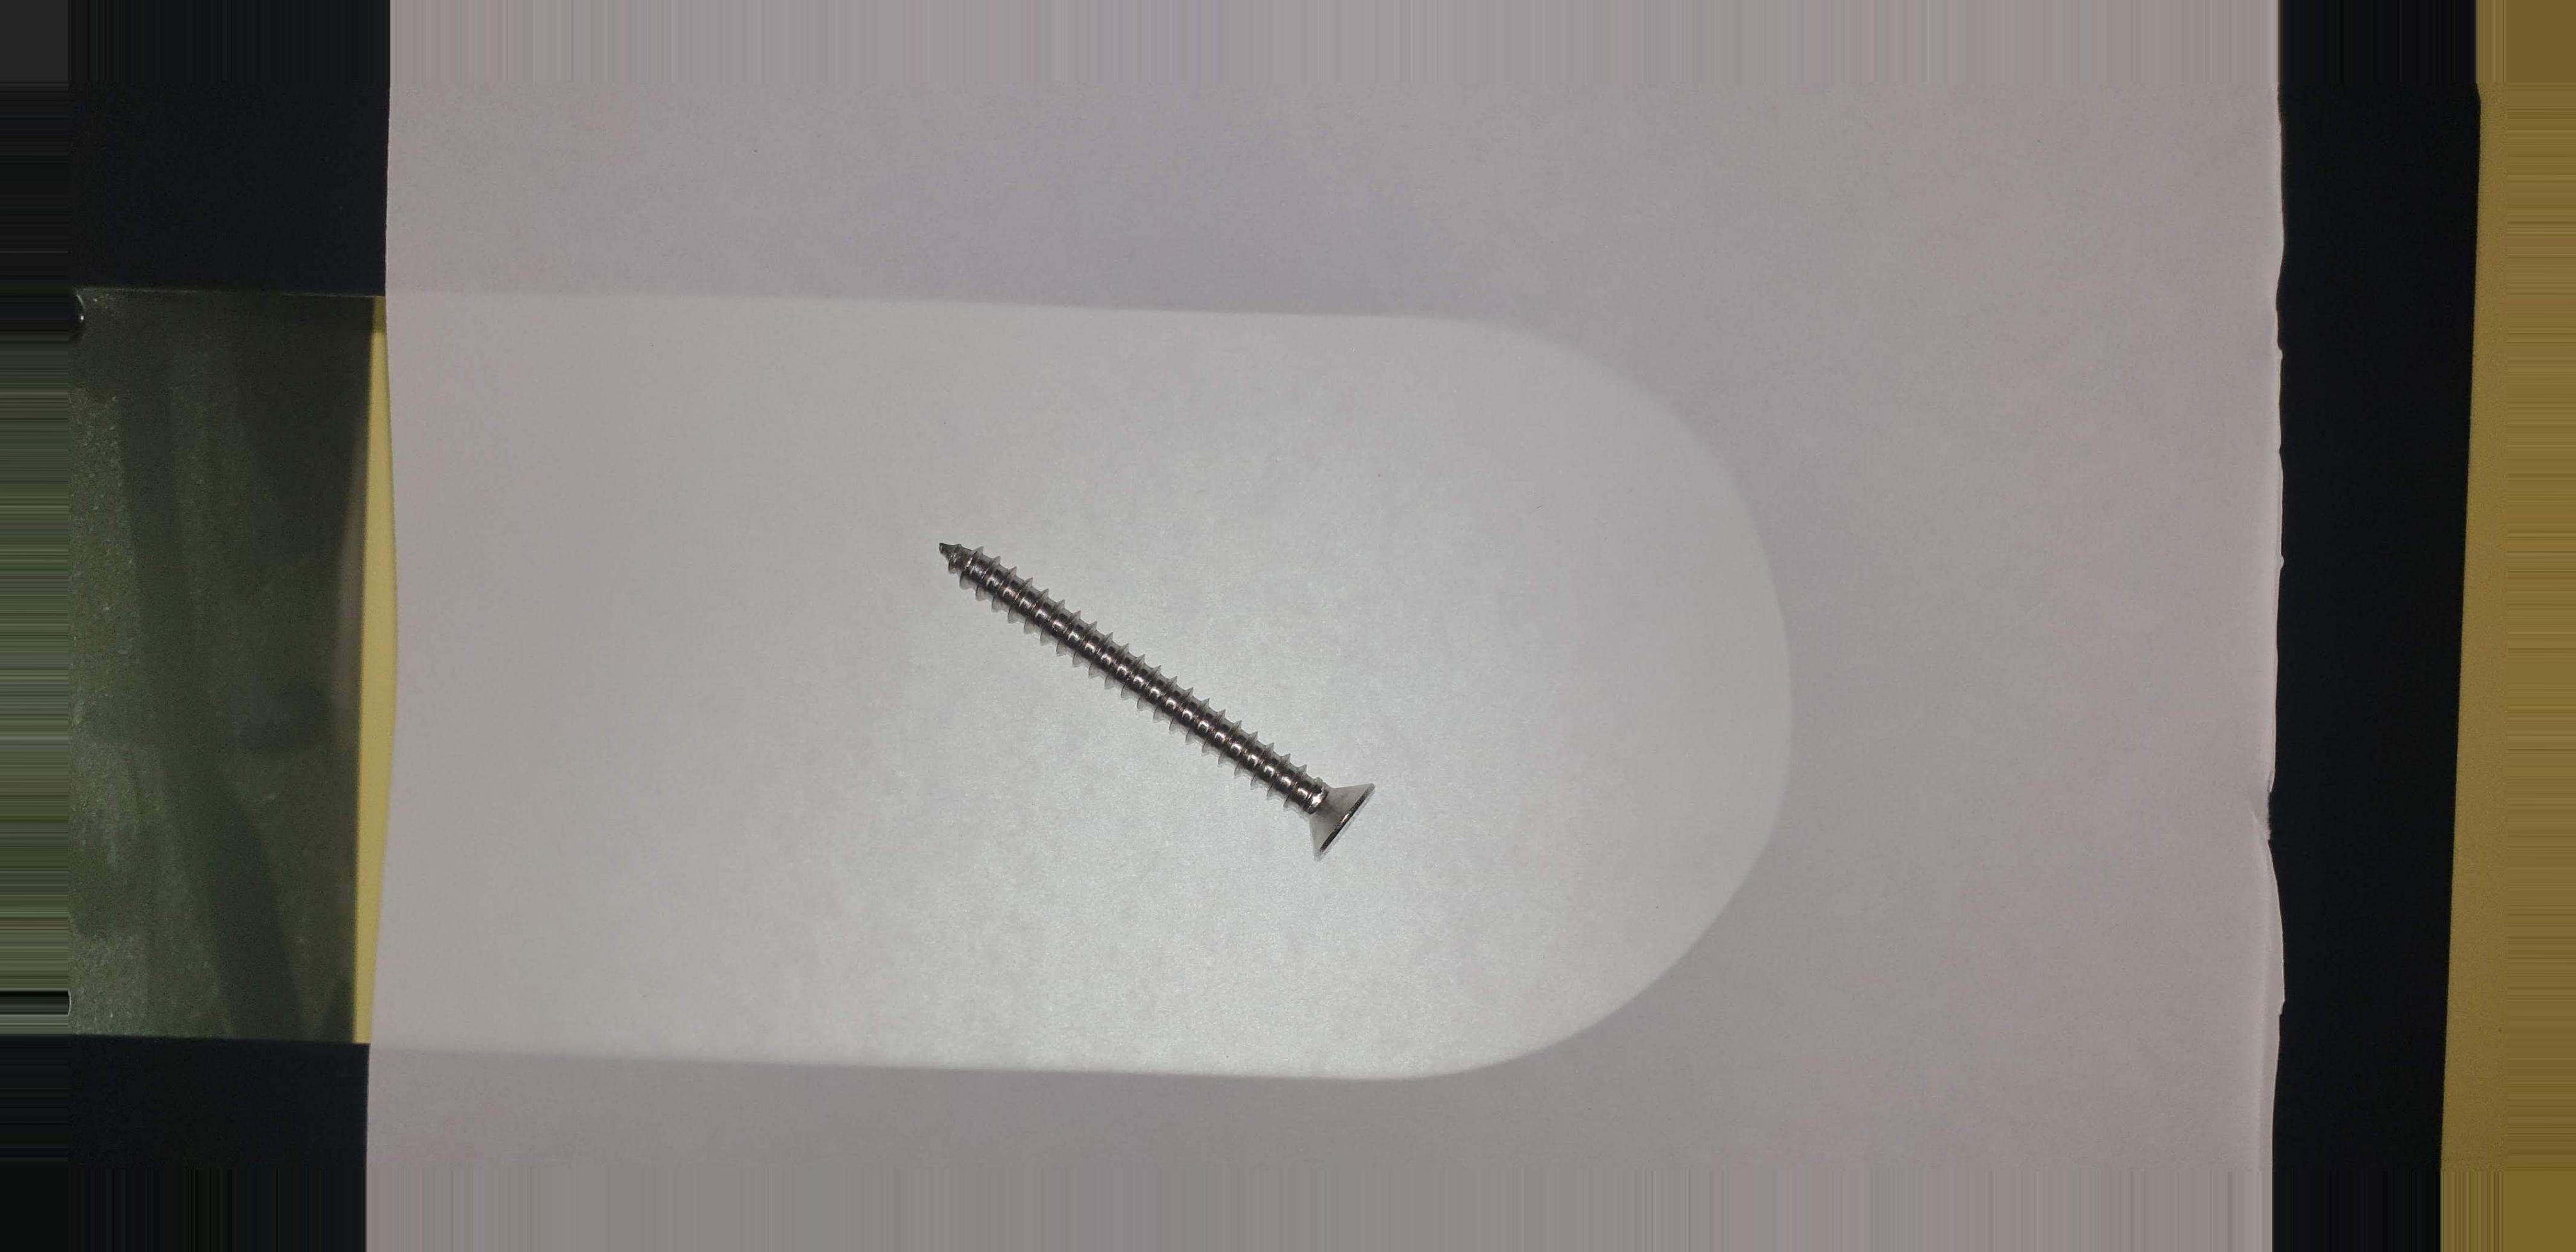fastener: (908, 522, 1446, 884)
